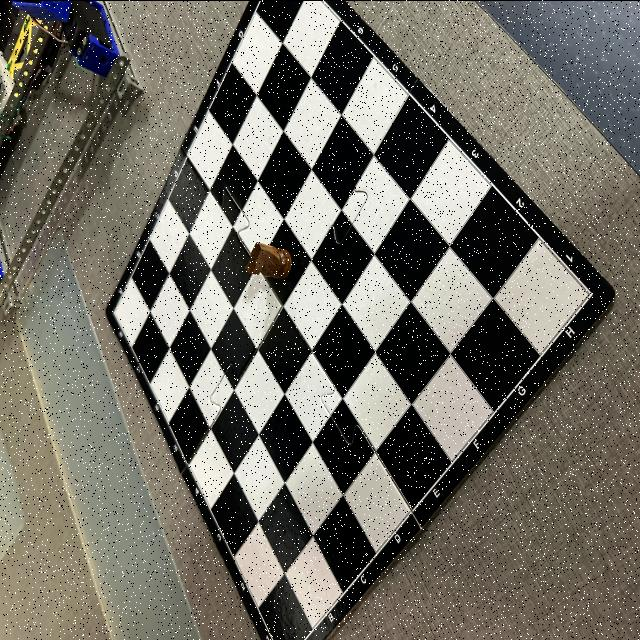Black-Knight: (245, 240, 292, 278)
